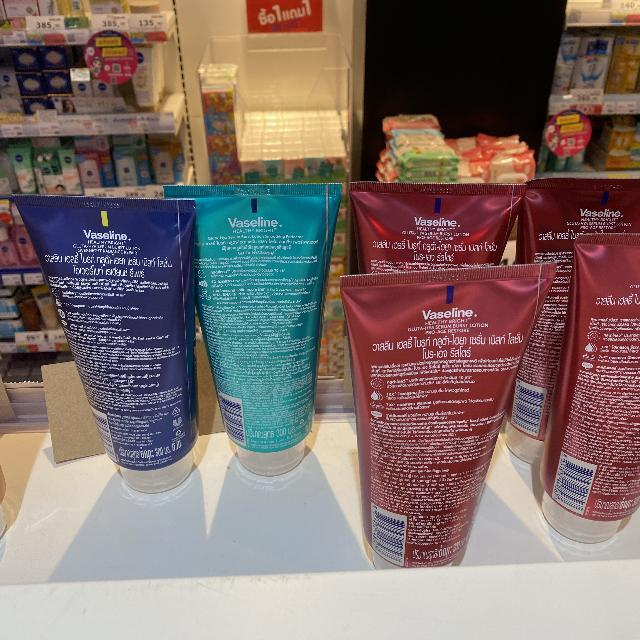Squeeze Tube: (11, 117, 640, 615)
